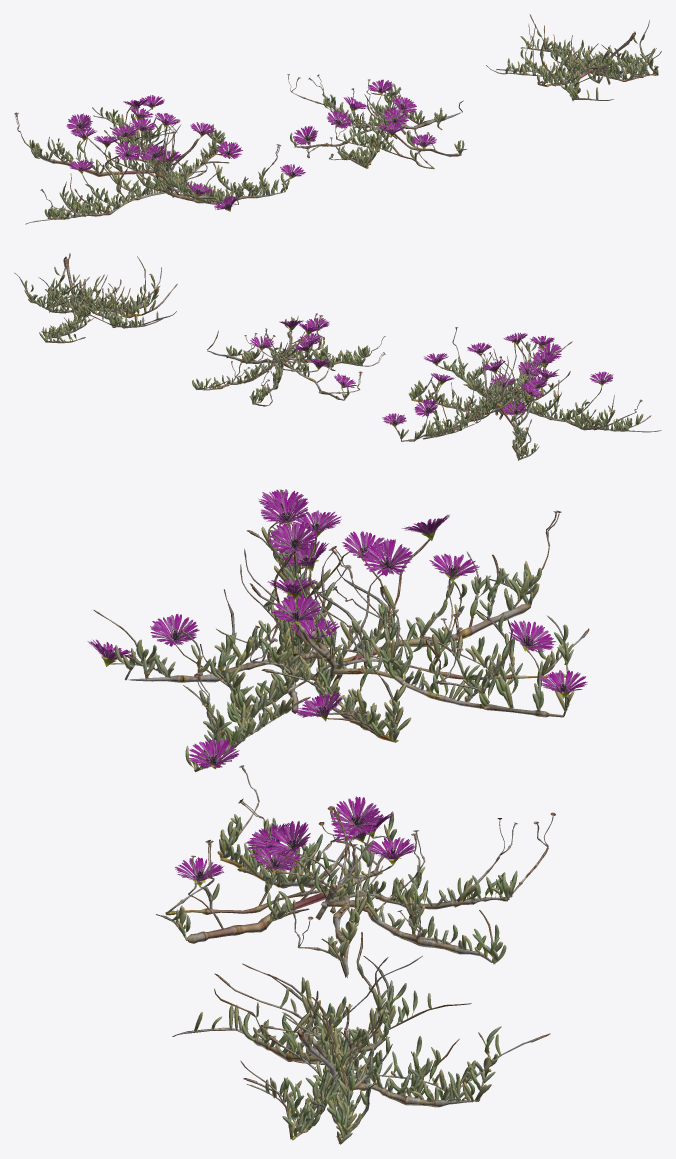
Rendered from leipoldtia_schultzei.glb.
3 views of the same model, one above another, from view 1: azimuth 30°, elevation 25°; view 2: azimuth 150°, elevation 25°; view 3: azimuth 270°, elevation 25° (orthographic). The views are drawn at different scales.
Parts seen in each view (by area): view 1: leipoldtia_schultzei_Large_LOD0; view 2: leipoldtia_schultzei_Large_LOD0; view 3: leipoldtia_schultzei_Large_LOD0.
Part boxes in pixels (bbox=[...]): leipoldtia_schultzei_Large_LOD0: bbox=[14, 14, 661, 224]; leipoldtia_schultzei_Large_LOD0: bbox=[14, 253, 661, 460]; leipoldtia_schultzei_Large_LOD0: bbox=[87, 489, 589, 1144].
Bounding box in the file's own units: 2.31 × 0.3172 × 0.8097.
Materials: 1 (1 with a texture image).
